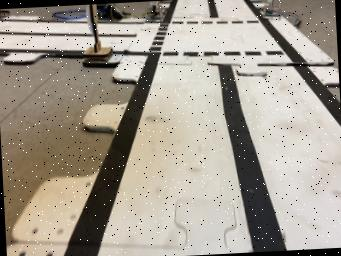street: (60, 0, 341, 256), (0, 17, 90, 52)
